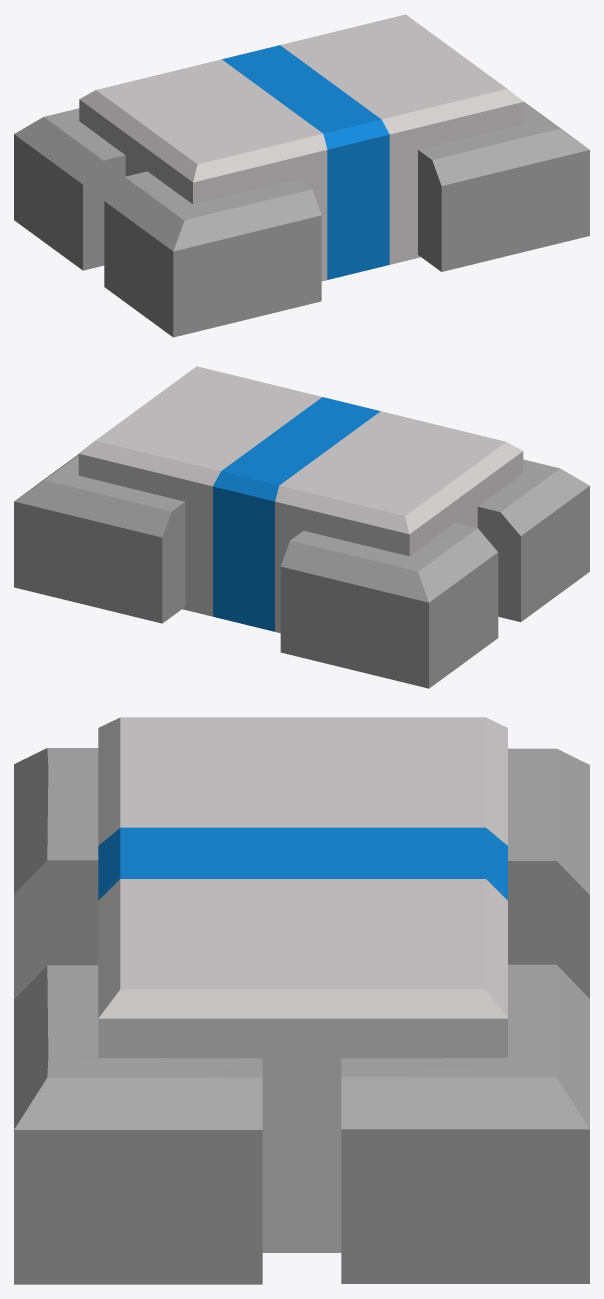
File: BatteryWL.fbx
3 views of the same model, one above another, from view 1: azimuth 30°, elevation 25°; view 2: azimuth 150°, elevation 25°; view 3: azimuth 270°, elevation 25° (orthographic). The views are drawn at different scales.
Parts seen in each view (by area): view 1: Main, Light1, Light3, Light2; view 2: Main, Light2, Light4, Light1; view 3: Main, Light3, Light4, Light1, Light2.
Boxes of the visible parts, x1=… form: Main: x1=79, y1=14, x2=523, y2=281; Light1: x1=104, y1=171, x2=321, y2=337; Light3: x1=418, y1=102, x2=589, y2=271; Light2: x1=14, y1=108, x2=125, y2=270; Main: x1=78, y1=366, x2=523, y2=632; Light2: x1=280, y1=523, x2=498, y2=688; Light4: x1=14, y1=454, x2=185, y2=623; Light1: x1=477, y1=459, x2=589, y2=622; Main: x1=98, y1=717, x2=507, y2=1252; Light3: x1=14, y1=965, x2=262, y2=1284; Light4: x1=341, y1=964, x2=589, y2=1283; Light1: x1=14, y1=748, x2=98, y2=999; Light2: x1=508, y1=748, x2=589, y2=998.
Bounding box in the file's own units: 3.48 × 1.13 × 2.32.
